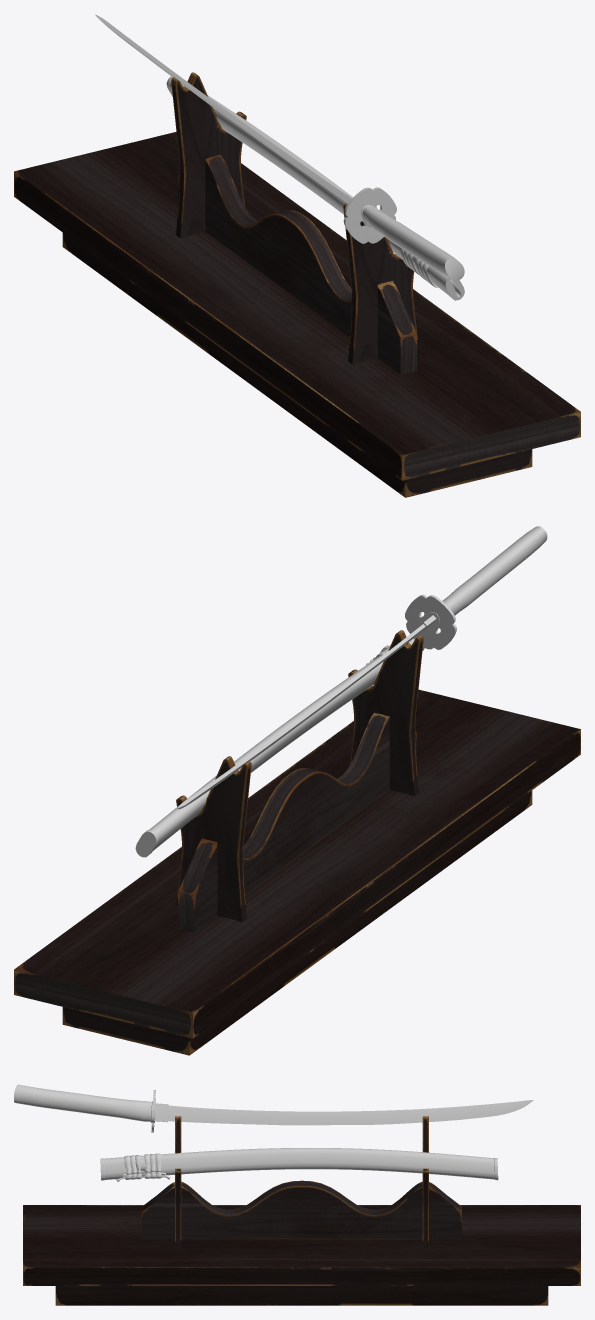
The picture shows the model from 3 angles, top to bottom: view 1: azimuth 30°, elevation 25°; view 2: azimuth 150°, elevation 25°; view 3: azimuth 270°, elevation 25°; orthographic projection. The views are drawn at different scales.
Parts seen in each view (by area): view 1: Cube_low, stoika2_low, stoika_low, case_low, pen_low, blade_low, design_low; view 2: Cube_low, stoika2_low, stoika_low, case_low, pen_low, blade_low, design_low; view 3: Cube_low, stoika2_low, case_low, blade_low, pen_low, stoika_low, ropes_low.
Boxes of the visible parts, x1,y1,x2,y2 form: Cube_low: (14, 132, 580, 497); stoika2_low: (178, 155, 416, 374); stoika_low: (171, 72, 418, 364); case_low: (166, 76, 464, 300); pen_low: (361, 205, 464, 280); blade_low: (95, 14, 351, 203); design_low: (343, 187, 396, 243); Cube_low: (14, 689, 580, 1055); stoika2_low: (178, 712, 416, 932); stoika_low: (176, 630, 423, 921); case_low: (135, 639, 424, 857); pen_low: (442, 526, 547, 615); blade_low: (177, 624, 425, 809); design_low: (405, 594, 456, 649); Cube_low: (23, 1205, 580, 1305); stoika2_low: (142, 1180, 461, 1239); case_low: (100, 1148, 498, 1180); blade_low: (168, 1100, 533, 1125); pen_low: (14, 1084, 152, 1122); stoika_low: (175, 1116, 428, 1247); ropes_low: (124, 1153, 161, 1179).
Bounding box in the file's own units: 14.76 × 20.01 × 56.34.
